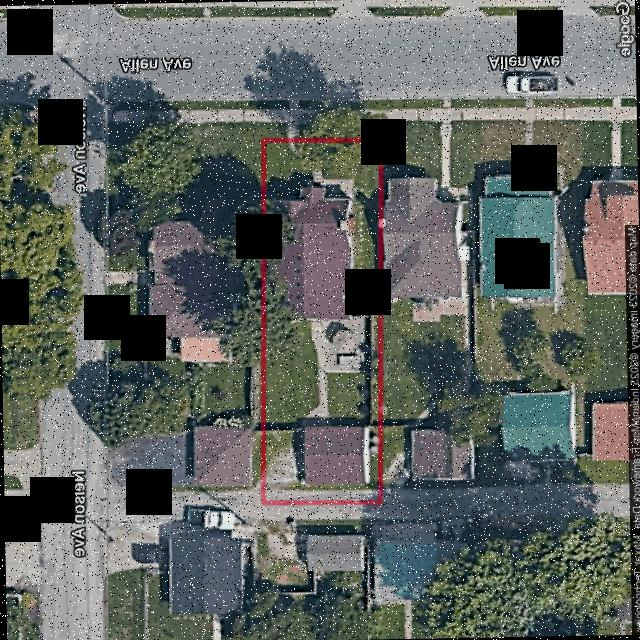Driveway: (264, 427, 304, 500), (300, 369, 329, 426), (311, 169, 352, 198), (287, 142, 298, 155)
Extra Driveway: (286, 99, 297, 138)
Extra Lawn: (296, 123, 381, 137), (297, 100, 379, 110), (261, 122, 287, 137), (260, 100, 289, 109)
Extra Sidewalk: (297, 110, 380, 122), (260, 109, 287, 122)
House: (269, 186, 353, 318)
Other: (302, 427, 363, 484), (310, 317, 363, 372)
Sidewalk: (285, 489, 376, 499)
